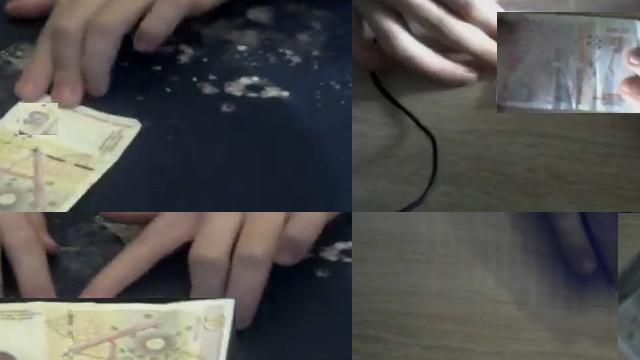10leva: (0, 298, 236, 360), (20, 103, 58, 135)
5leva: (497, 12, 640, 113)
